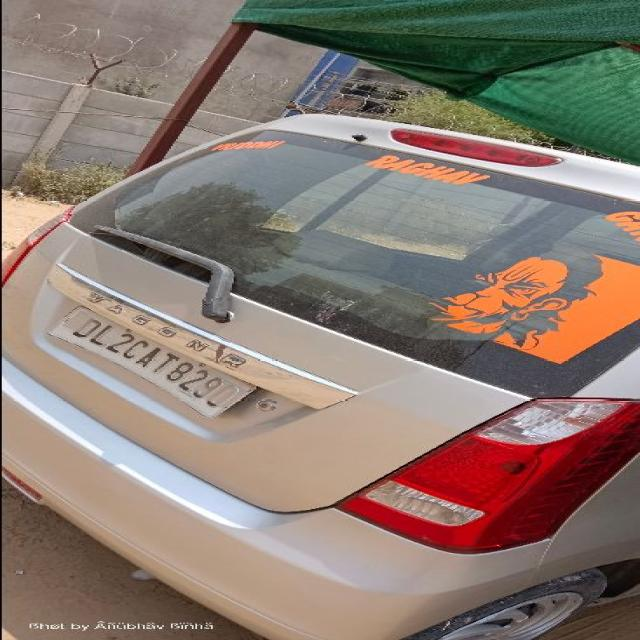license_plate: (2, 112, 638, 638), (45, 303, 258, 419)
